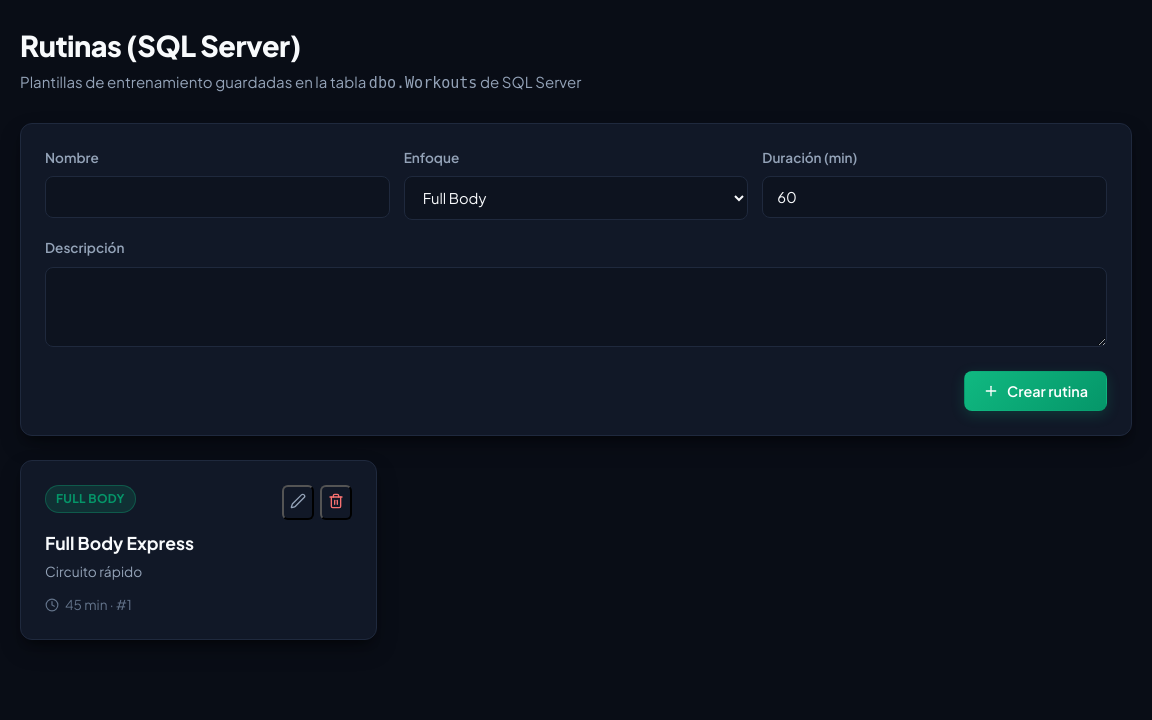
WorkoutsPage (useQuery + useMutation + invalidateQueries) › muestra el error del backend si la creación falla
Expected: the heading "Full Body Express" is shown, [45, 532, 194, 554]
Type "Full Body Express" into the field labelled "Nombre" at (217, 197), box [45, 176, 390, 218]
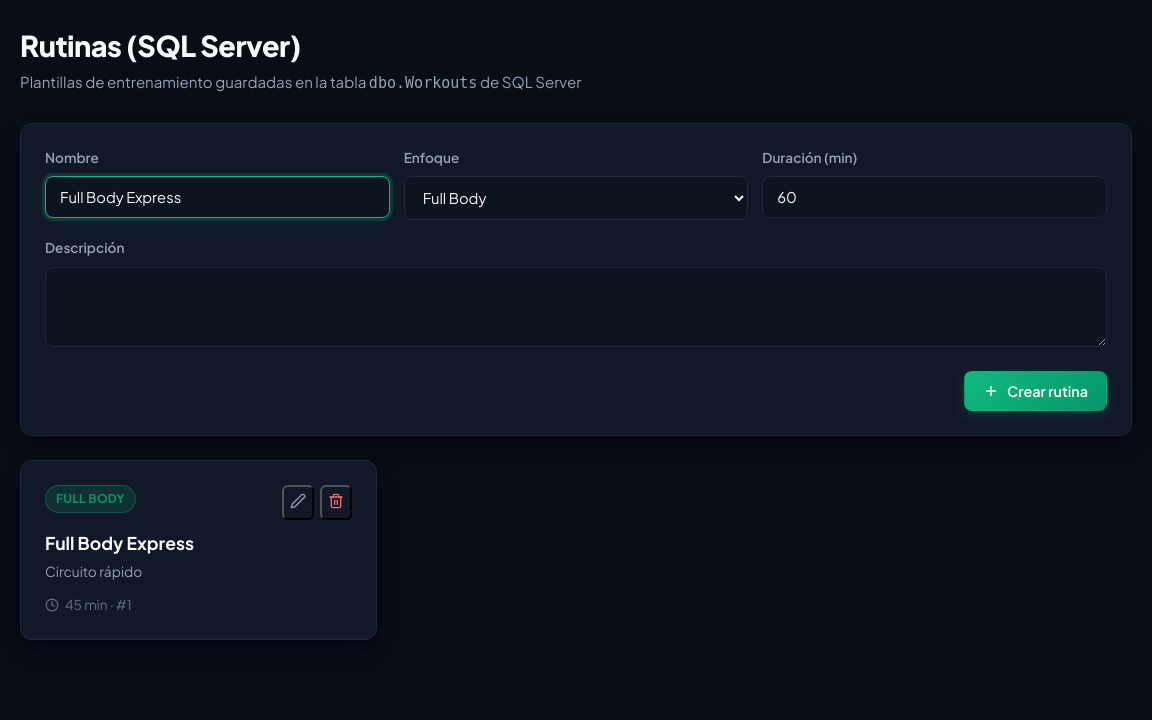
Click the button "Crear rutina" at (1036, 390), box [964, 370, 1107, 410]
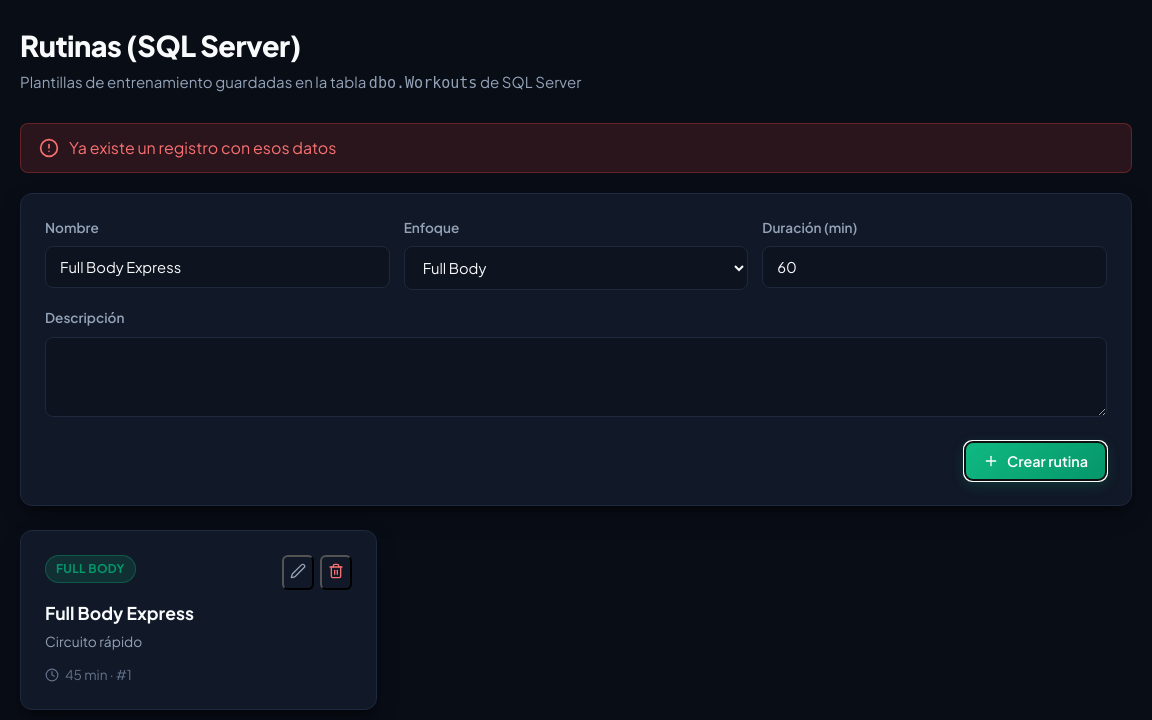
Expected: the message reads "Ya existe un registro con esos datos", [69, 137, 336, 158]
